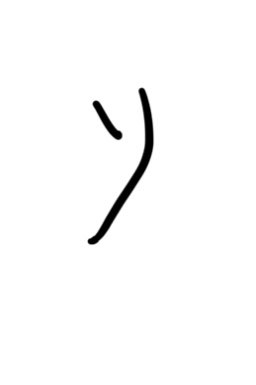so: (72, 83, 160, 250)
